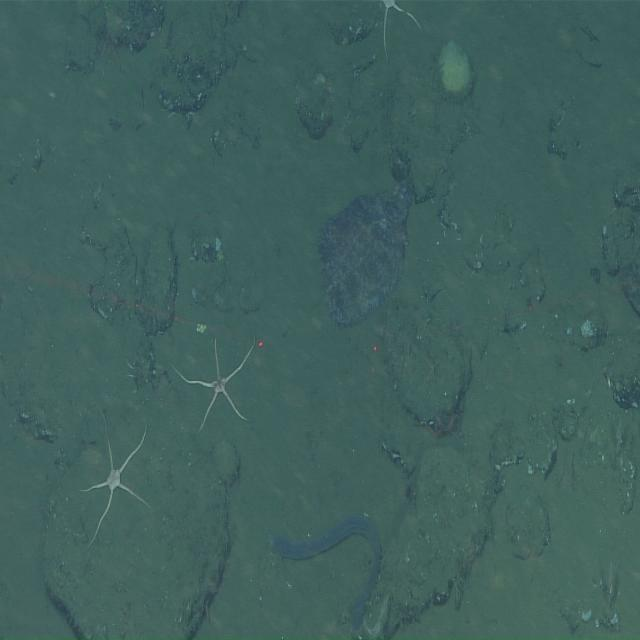Brittle Star: (71, 399, 157, 554), (166, 332, 257, 434)
